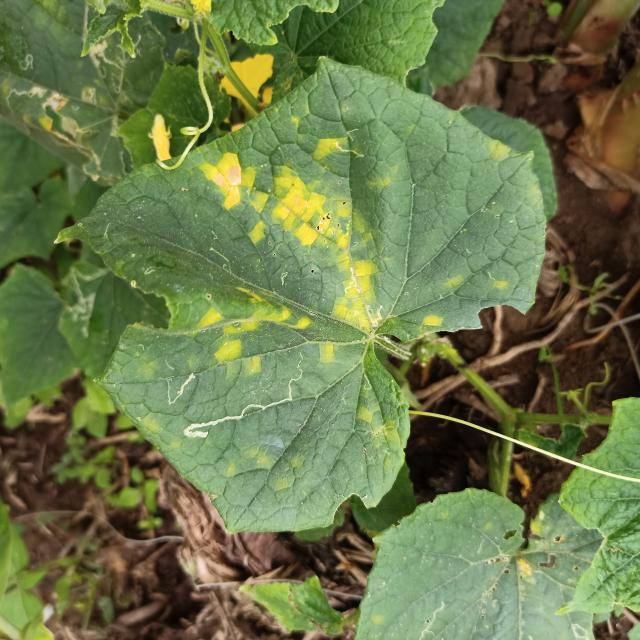disease_cucumber: (201, 131, 401, 335), (197, 285, 339, 378), (421, 310, 445, 334)
